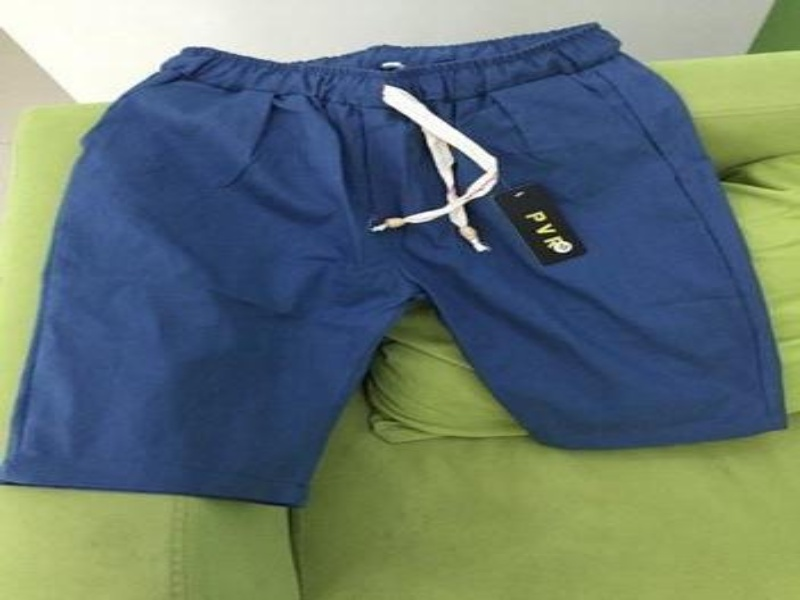shorts: (0, 21, 798, 510)
